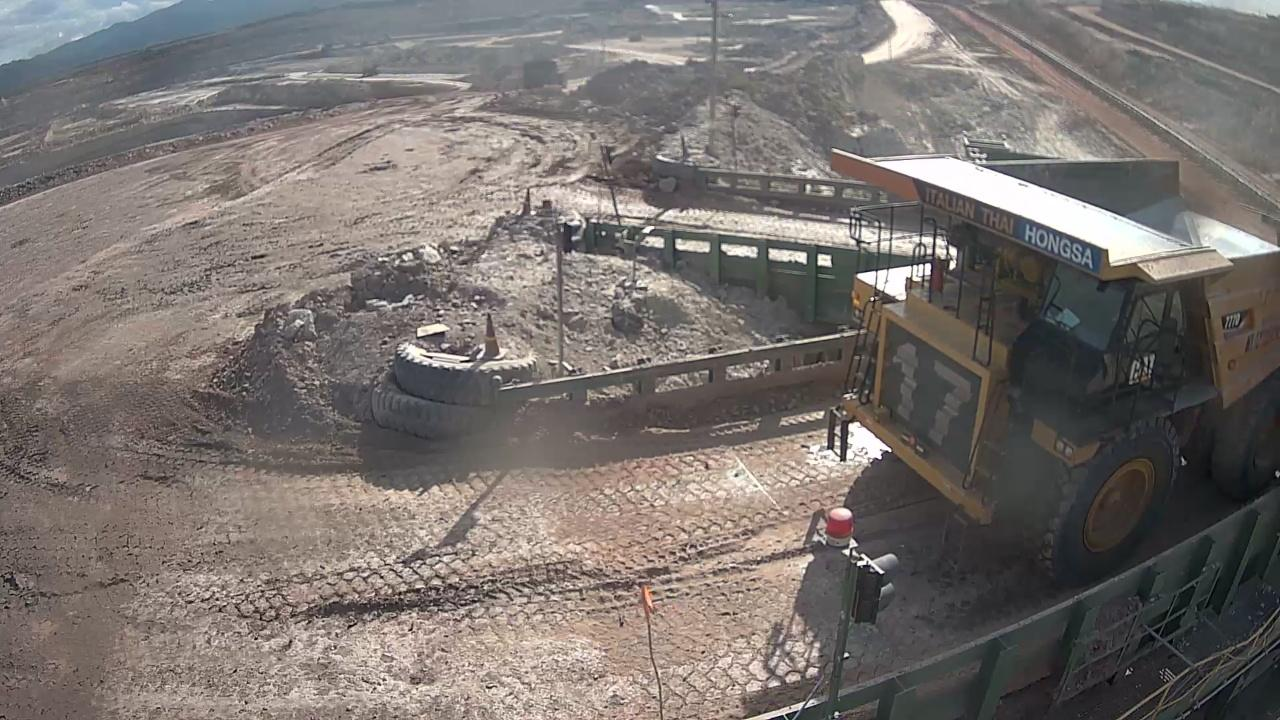empty_load: (1052, 152, 1266, 267)
front_number: (881, 337, 978, 457)
mining_truck: (821, 140, 1278, 588)
